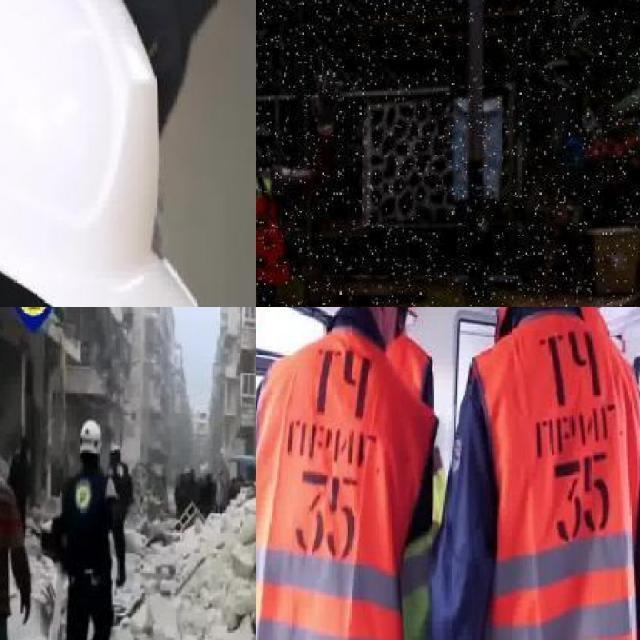apron: (308, 65, 345, 138)
